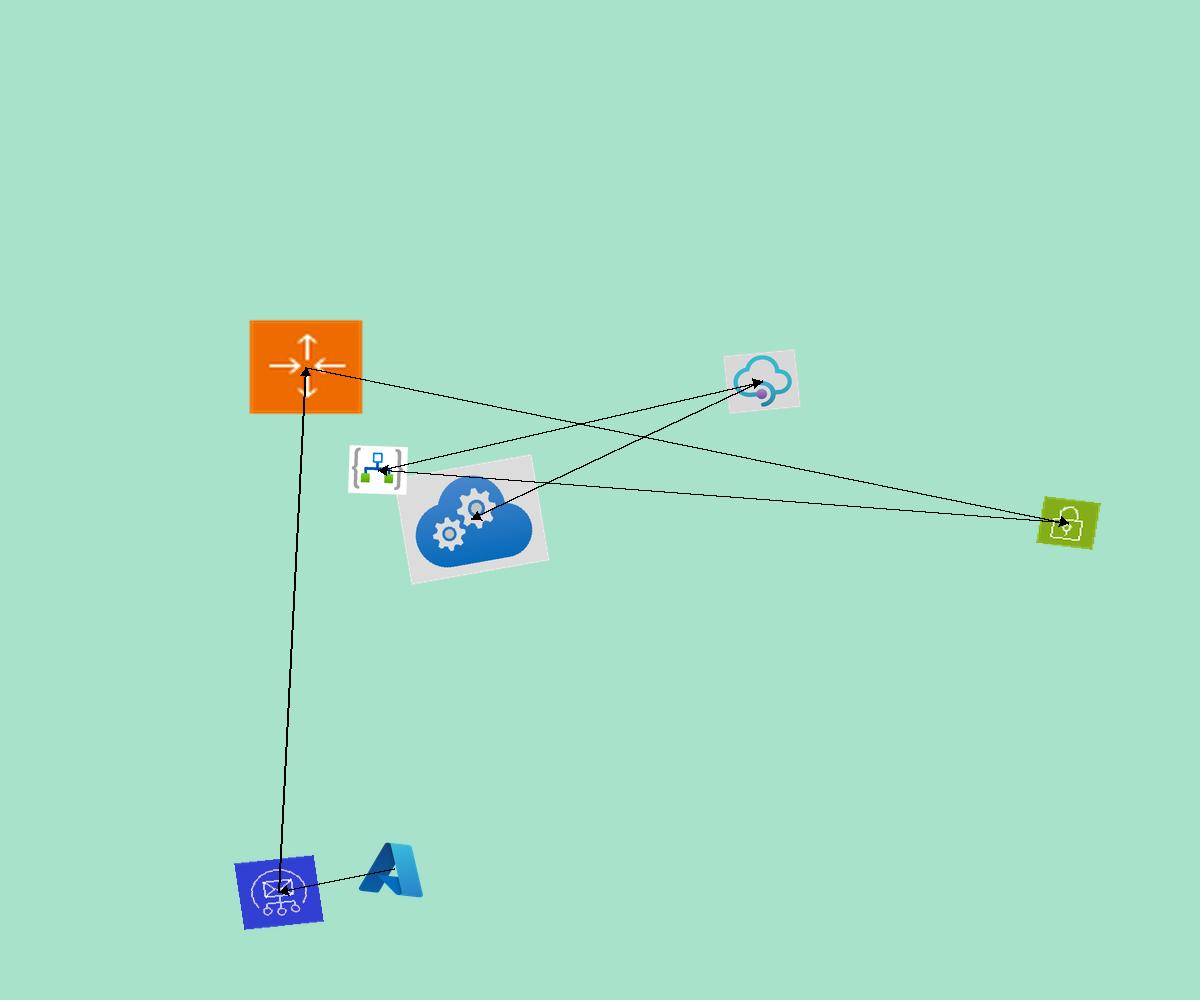AWS-Public-subnet: (1036, 496, 1101, 550)
AWS-Scaling-group: (247, 318, 365, 416)
AWS-Simple-Email-Service: (234, 855, 324, 930)
Azure_api_gateway: (723, 349, 801, 414)
Azure_cloud_services: (393, 454, 550, 585)
Azure_integration-204-Logic-Apps: (348, 445, 408, 495)
Azure_services: (355, 836, 434, 902)
